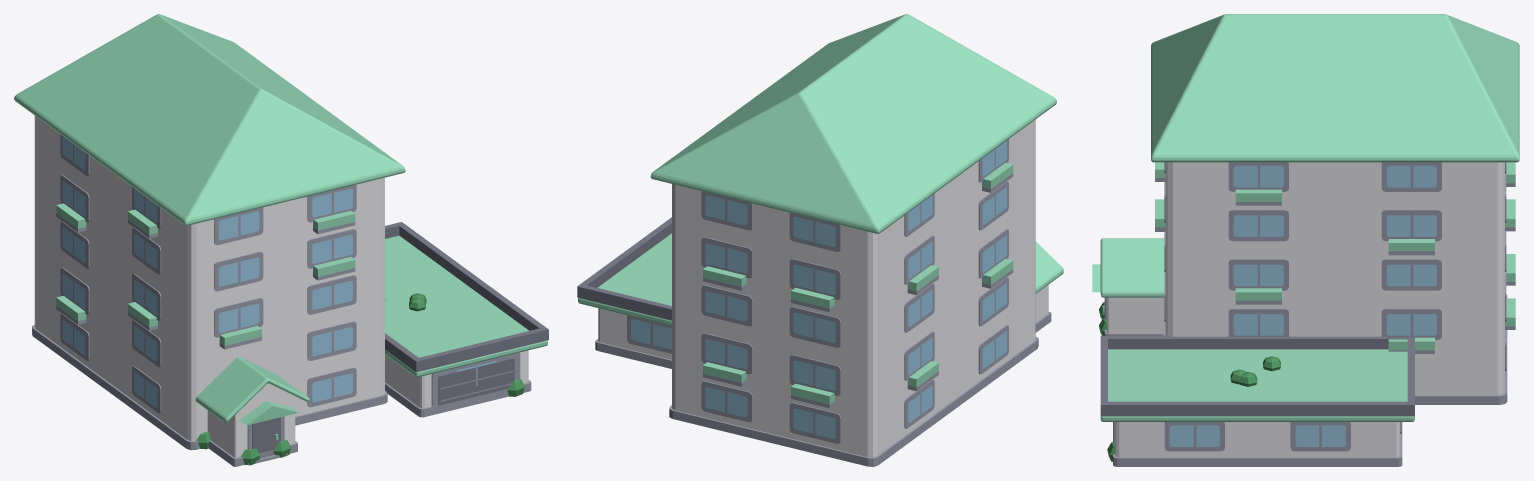
Rendered from house-2x2-5f-mansard-a.glb.
3 renders of one model, left to right at view 1: azimuth 30°, elevation 25°; view 2: azimuth 150°, elevation 25°; view 3: azimuth 270°, elevation 25°, orthographic. The views are drawn at different scales.
Visible parts, largest first — view 1: house-2x2-5f-mansard-a; view 2: house-2x2-5f-mansard-a; view 3: house-2x2-5f-mansard-a.
Boxes of the visible parts, x1,y1,x2,y2 form: house-2x2-5f-mansard-a: (14,14,548,466); house-2x2-5f-mansard-a: (577,14,1063,466); house-2x2-5f-mansard-a: (1092,14,1519,466).
Size of the model in its own units: 2 by 1.78 by 2.04.
1 material, 1 textured.
